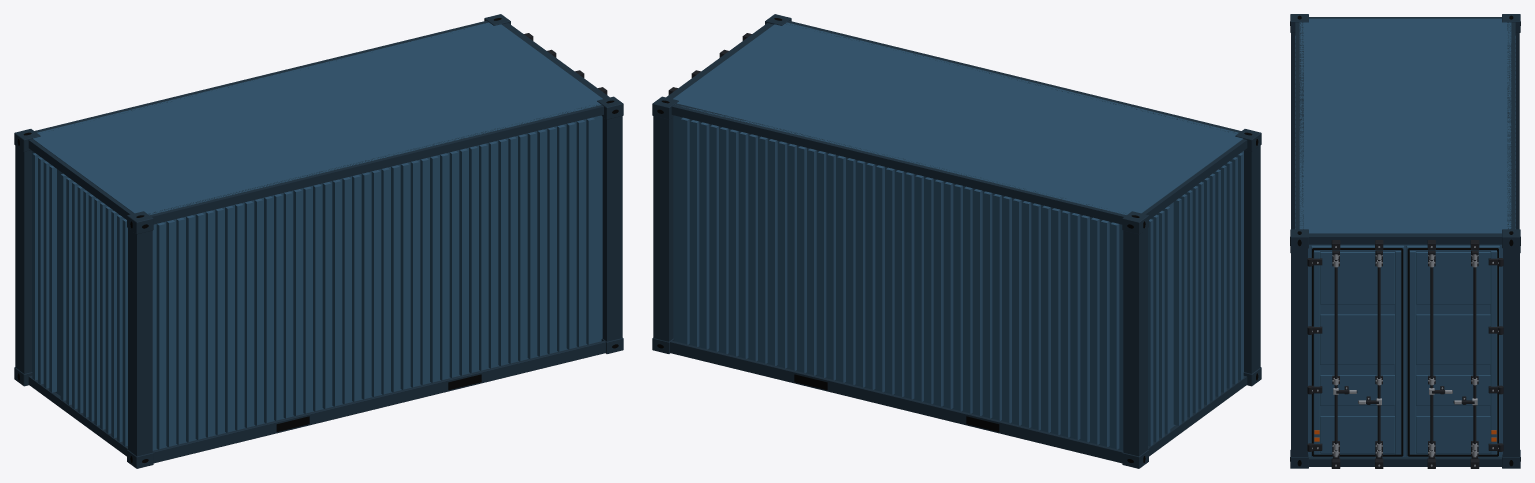
The model's file is GV_CargoContainer.fbx.
3 views of the same model, side by side, from view 1: azimuth 30°, elevation 25°; view 2: azimuth 150°, elevation 25°; view 3: azimuth 270°, elevation 25° (orthographic). The views are drawn at different scales.
Visible parts, largest first — view 1: Container_Body; view 2: Container_Body; view 3: Container_Body, Door_Left, Door_Right.
Part boxes in pixels (x1,y1,x2,y2): Container_Body: (14, 14, 623, 468); Container_Body: (652, 14, 1261, 468); Container_Body: (1290, 14, 1520, 468); Door_Left: (1307, 245, 1404, 458); Door_Right: (1406, 245, 1503, 458).
Size of the model in its own units: 5.71 by 2.72 by 2.45.
